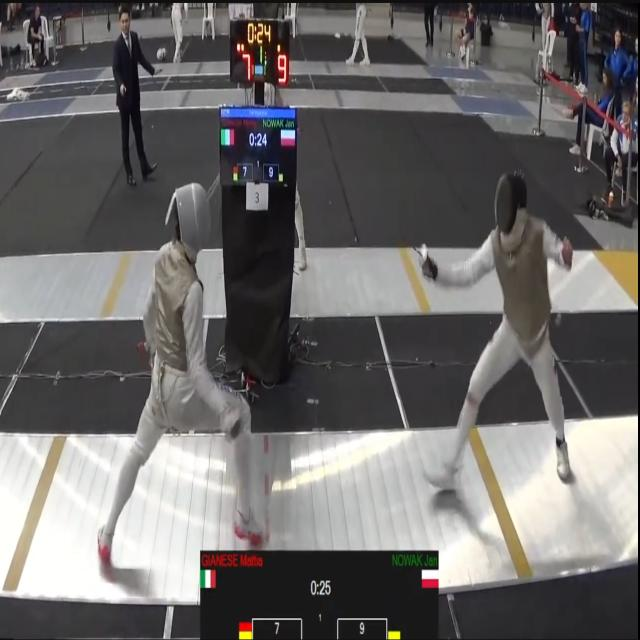fencer: (405, 155, 598, 543), (114, 194, 269, 552)
overlayLeft: (201, 552, 310, 599)
overlayRight: (334, 550, 440, 599)
scoreLeft: (266, 621, 298, 640)
scoreRight: (341, 620, 372, 640)
